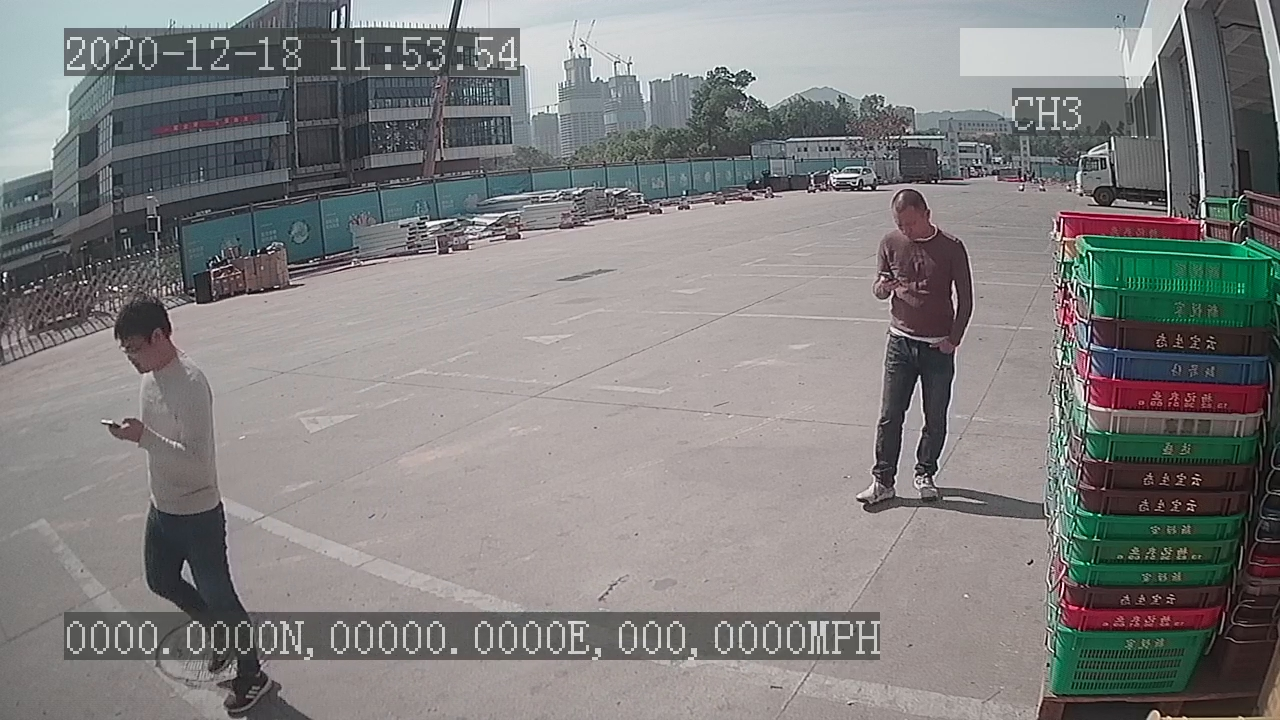person: (849, 181, 974, 519)
